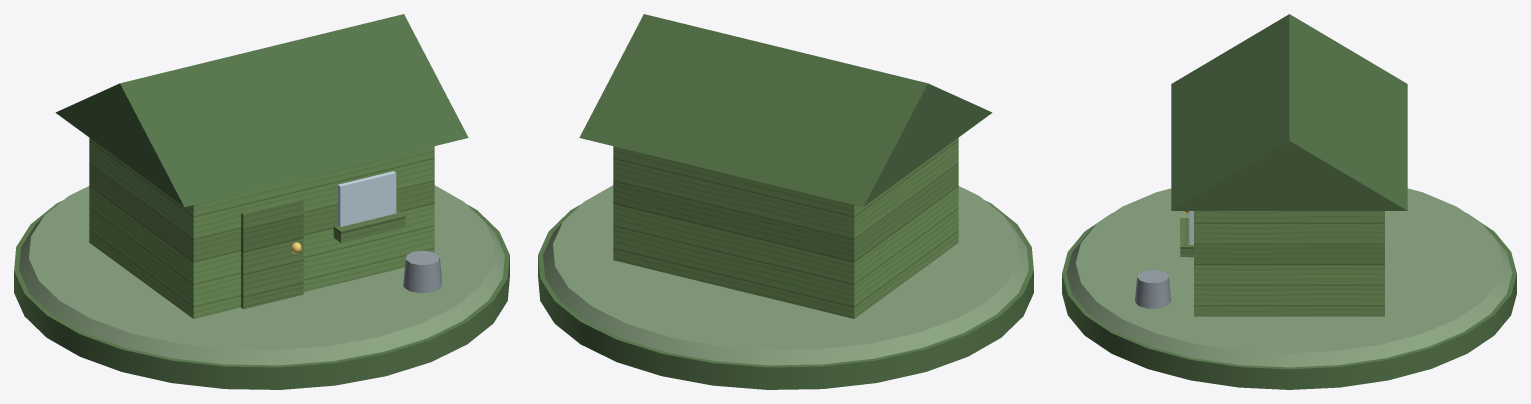
The model's file is tier-06-garden-shed.glb.
3 views of the same model, side by side, from view 1: azimuth 30°, elevation 25°; view 2: azimuth 150°, elevation 25°; view 3: azimuth 270°, elevation 25° (orthographic). The views are drawn at different scales.
Parts seen in each view (by area): view 1: matte, wood, gloss; view 2: matte, wood; view 3: matte, wood, gloss.
Part boxes in pixels (x1,y1,x2,y2): matte: [14, 14, 509, 389]; wood: [89, 138, 434, 318]; gloss: [291, 171, 441, 293]; matte: [538, 14, 1033, 389]; wood: [613, 138, 958, 318]; matte: [1062, 14, 1516, 389]; wood: [1180, 211, 1384, 316]; gloss: [1135, 211, 1193, 308].
Bounding box in the file's own units: 1 × 0.525 × 1.
3 materials, 1 textured.
